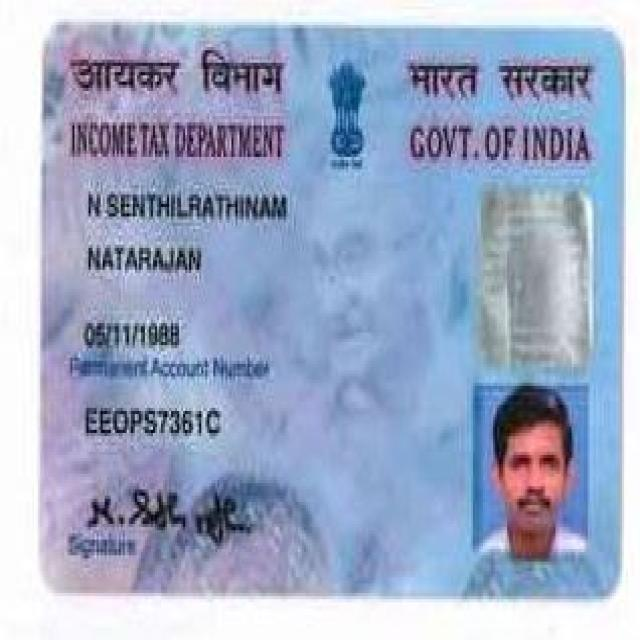pan_card: (46, 25, 622, 592)
